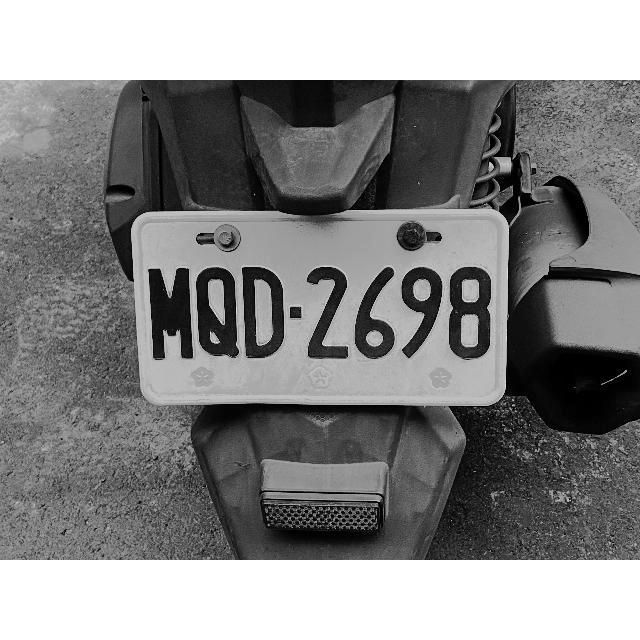-: (288, 299, 304, 323)
2: (306, 264, 352, 362)
6: (352, 264, 396, 360)
8: (449, 263, 493, 361)
9: (398, 266, 444, 358)
D: (240, 262, 286, 364)
M: (148, 264, 194, 366)
Q: (195, 262, 241, 364)
